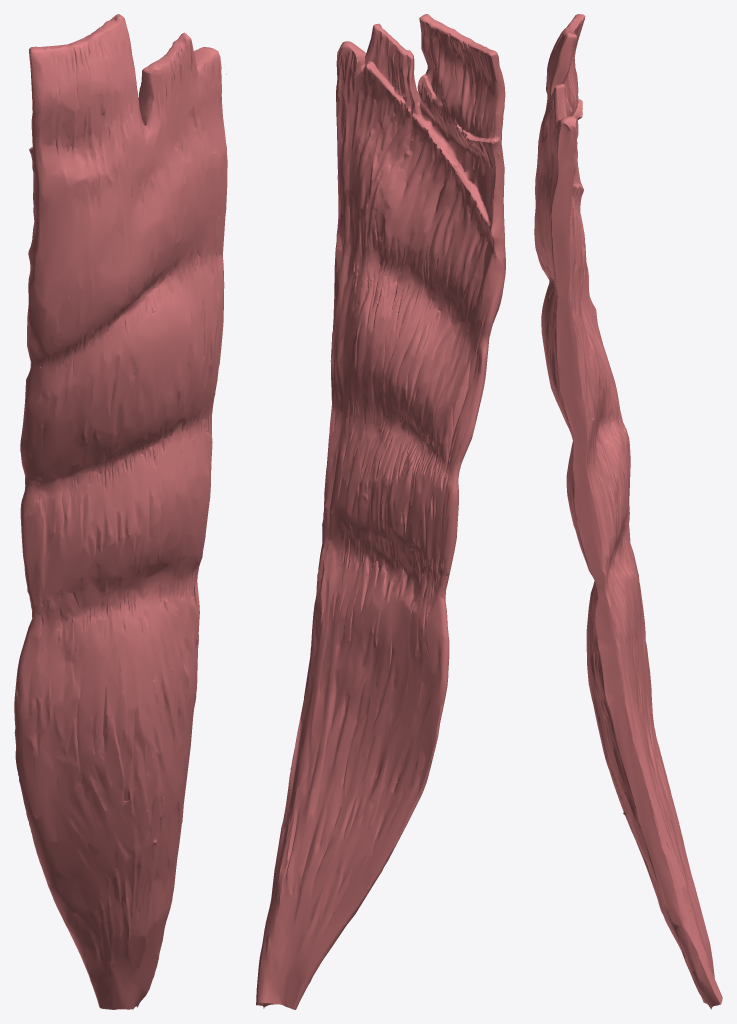
File: BP3D3_FMA13377.glb
3 views of the same model, side by side, from view 1: azimuth 30°, elevation 25°; view 2: azimuth 150°, elevation 25°; view 3: azimuth 270°, elevation 25° (orthographic). The views are drawn at different scales.
Visible parts, largest first — view 1: BP3D3_FMA13377; view 2: BP3D3_FMA13377; view 3: BP3D3_FMA13377.
Boxes of the visible parts, x1,y1,x2,y2 form: BP3D3_FMA13377: [14, 14, 227, 1009]; BP3D3_FMA13377: [256, 14, 505, 1009]; BP3D3_FMA13377: [534, 14, 722, 1009].
Size of the model in its own units: 0.0758 by 0.3936 by 0.0718.
